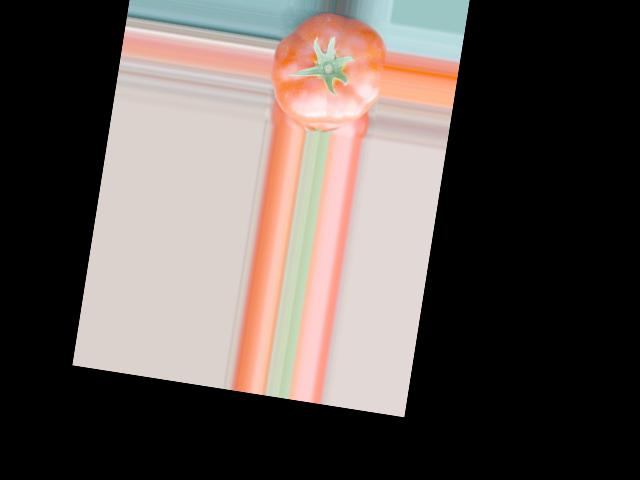tomato: (263, 6, 391, 133)
